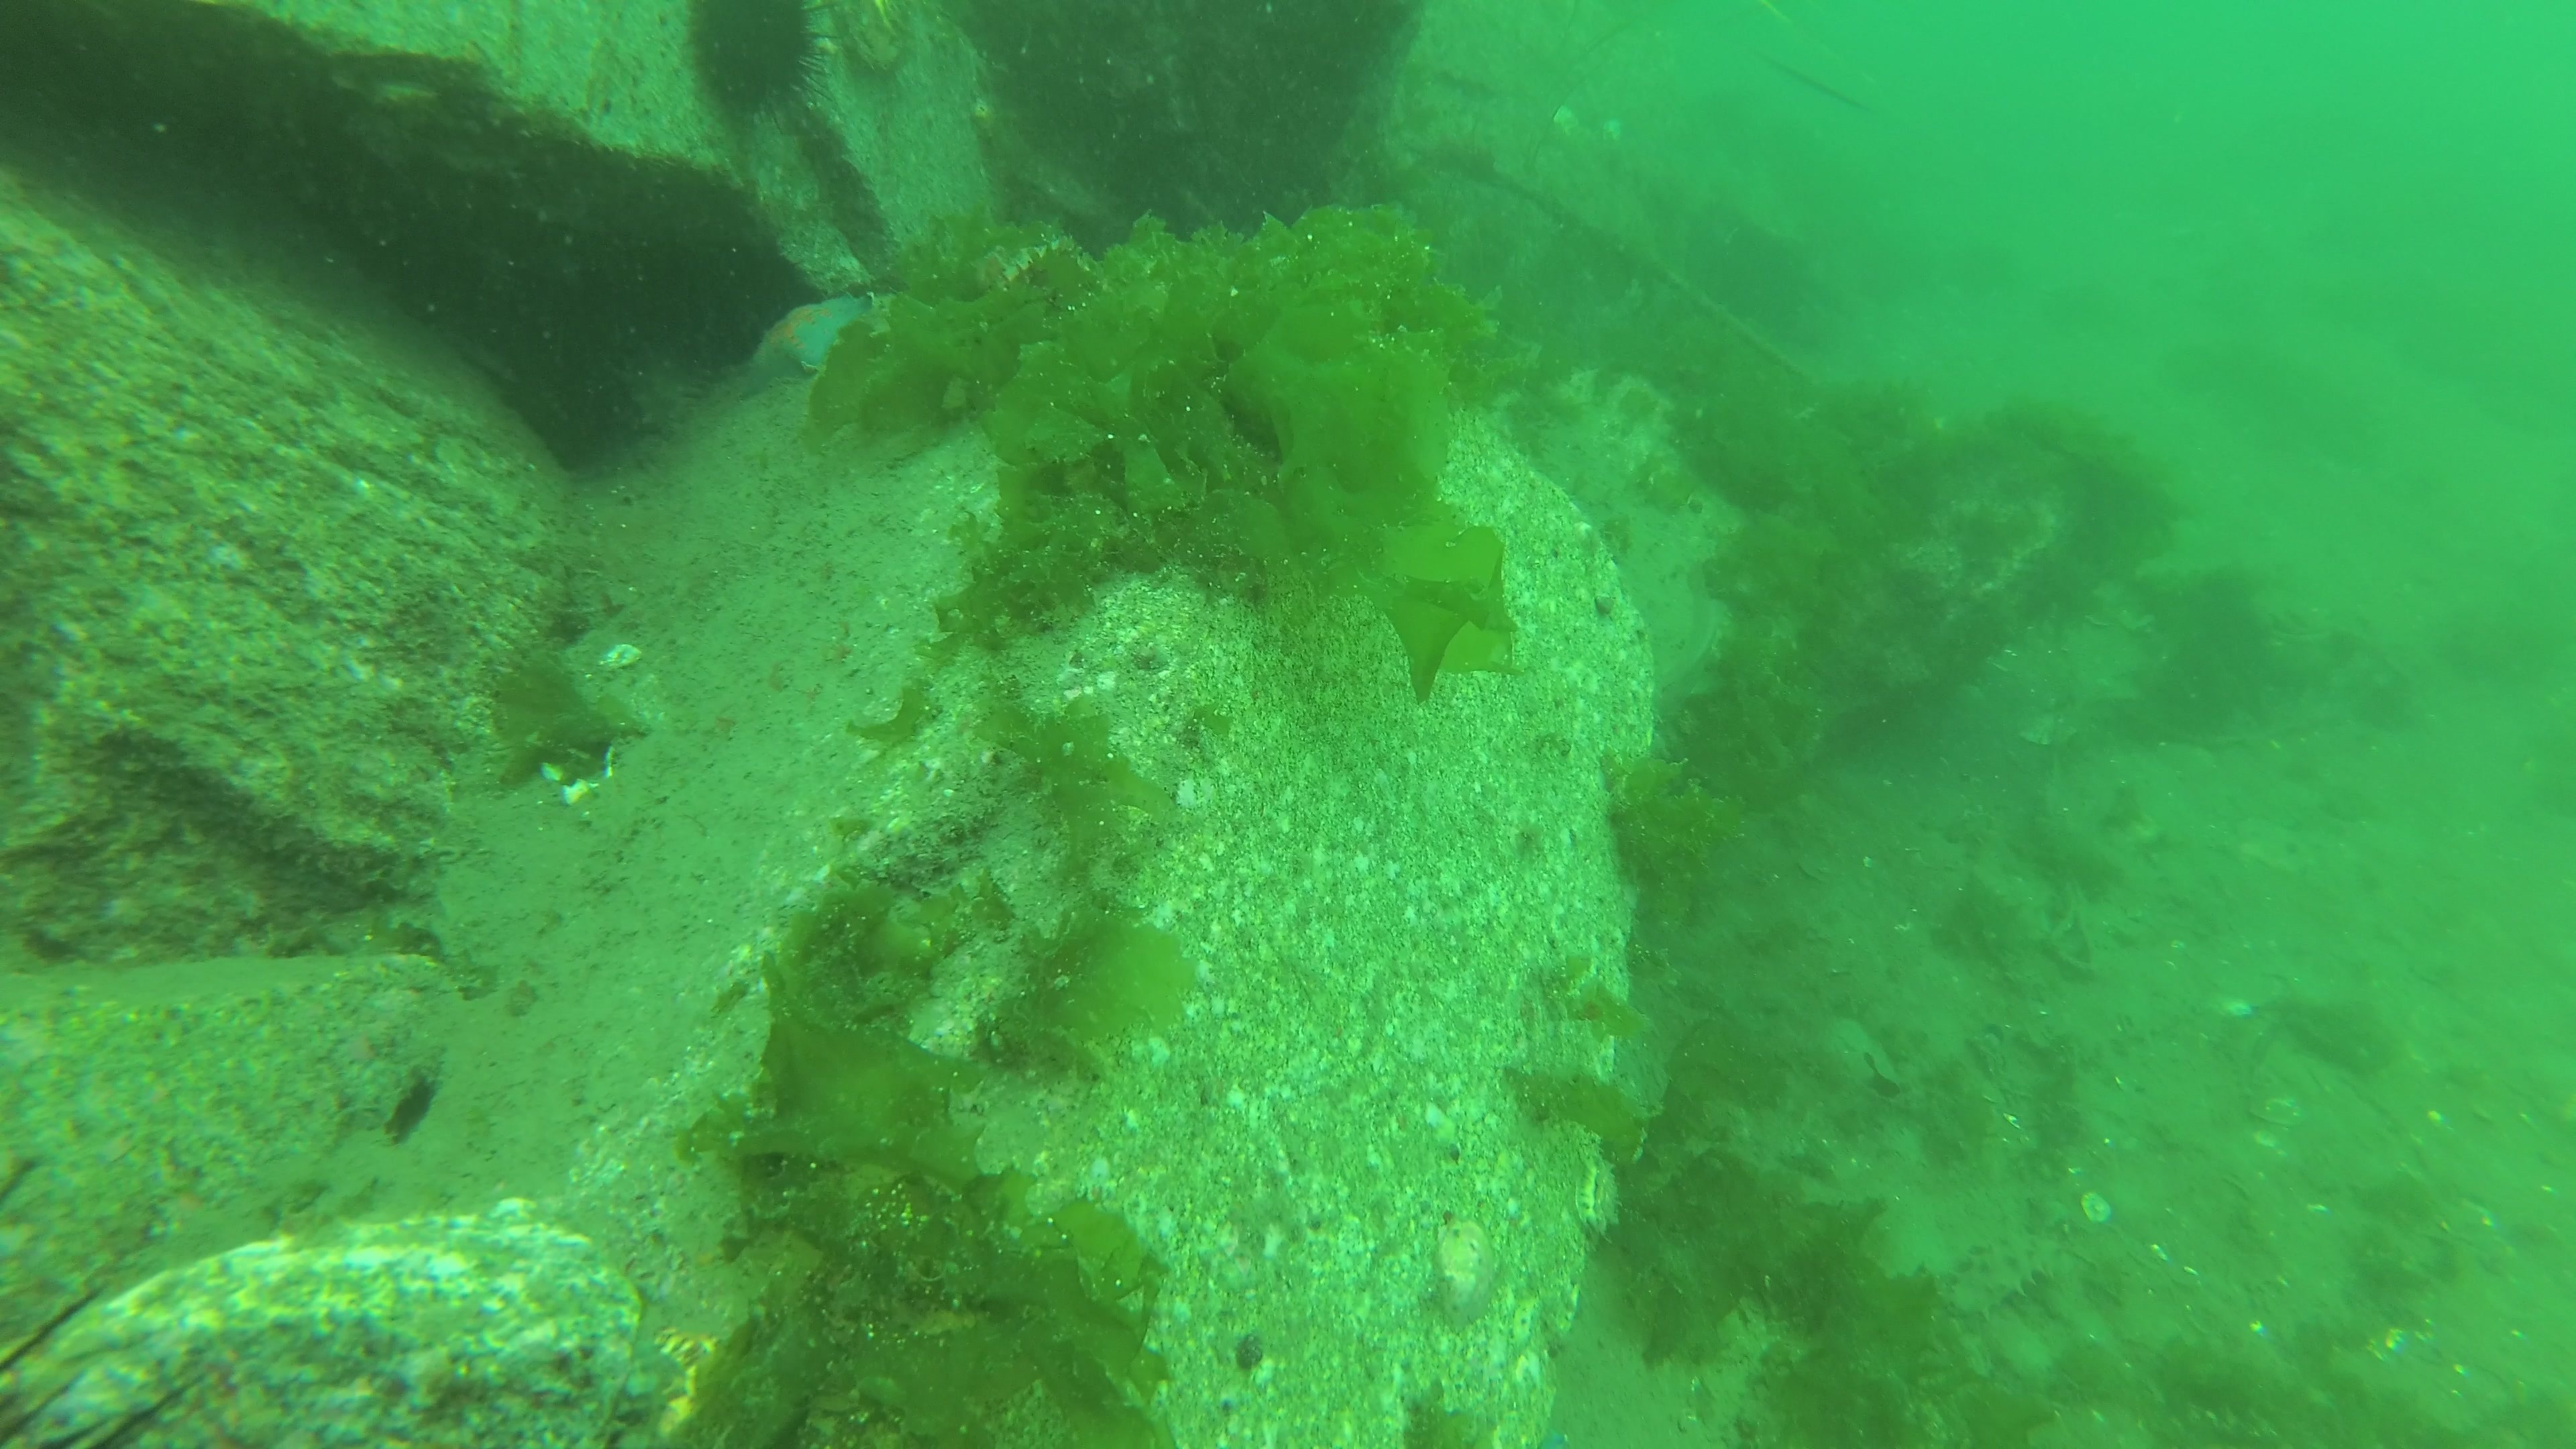echinus: (681, 2, 842, 140)
holothurian: (1936, 1228, 2081, 1330)
starfish: (741, 290, 881, 391)
